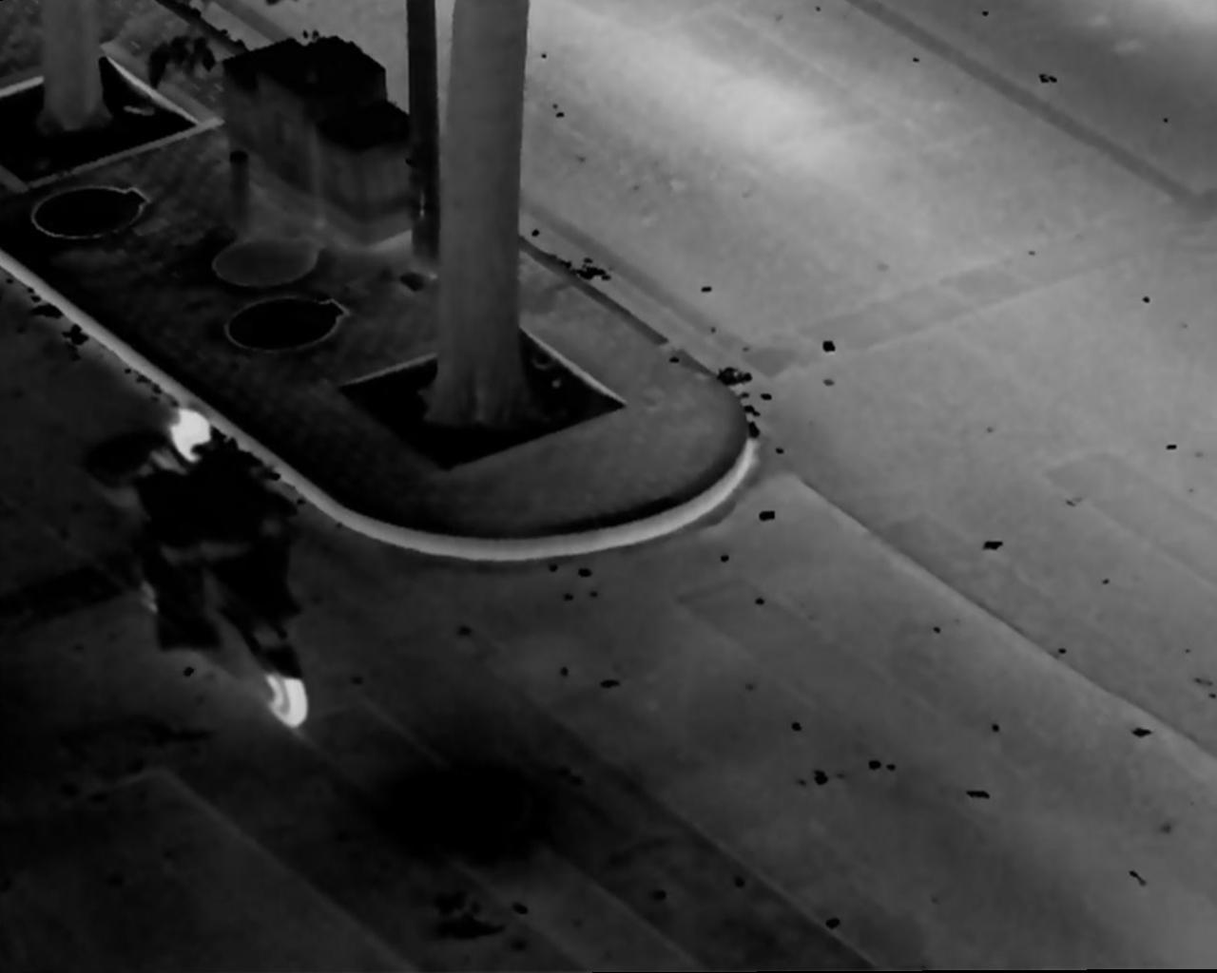person: (132, 397, 241, 639)
